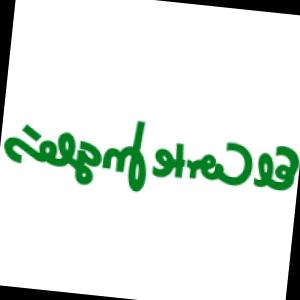corte_ingles: (0, 94, 300, 222)
